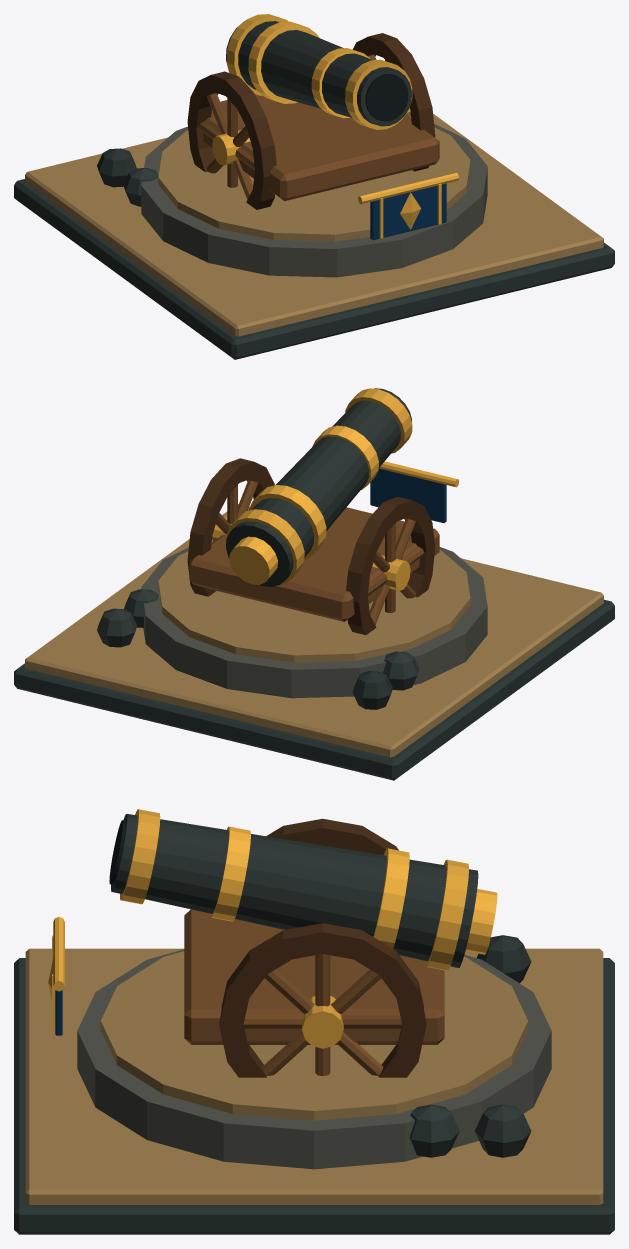
Rendered from cannon.glb.
3 views of the same model, one above another, from view 1: azimuth 30°, elevation 25°; view 2: azimuth 150°, elevation 25°; view 3: azimuth 270°, elevation 25° (orthographic). The views are drawn at different scales.
Visible parts, largest first — view 1: cannon_structure, cannon_brass; view 2: cannon_structure, cannon_brass; view 3: cannon_structure, cannon_brass.
Boxes of the visible parts, x1,y1,x2,y2 form: cannon_structure: (14,21,614,359); cannon_brass: (212,14,458,238); cannon_structure: (14,388,614,780); cannon_brass: (212,388,459,590); cannon_structure: (14,814,614,1234); cannon_brass: (48,809,497,1048).
Size of the model in its own units: 3.6 by 1.96 by 3.6.
